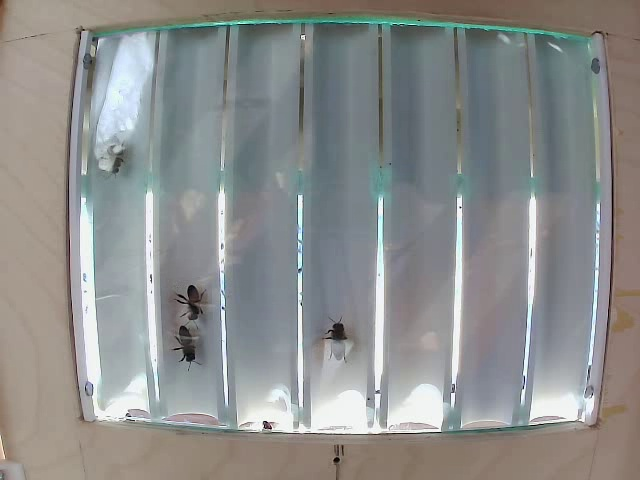bee: (312, 313, 353, 361), (166, 326, 206, 368), (171, 276, 206, 318)
